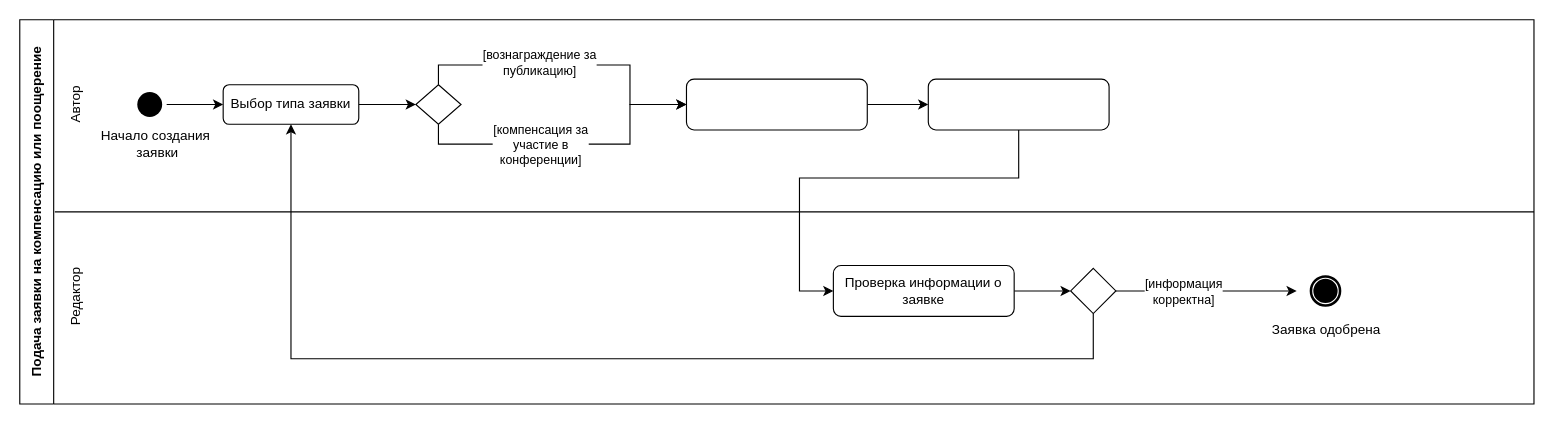
Some shapes in this 1555 by 424 pixel diagram are drawn without their labels. Each missing label, with the centre of its shape:
"Заполнение требуемой информации" goes at point (776, 104).
"Отправка на проверку" goes at point (1018, 104).
